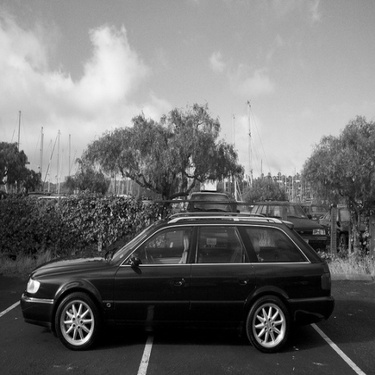car: (20, 204, 333, 348), (246, 183, 345, 253), (183, 179, 248, 212)
